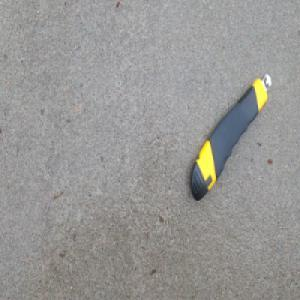Cutter: (189, 72, 272, 202)
